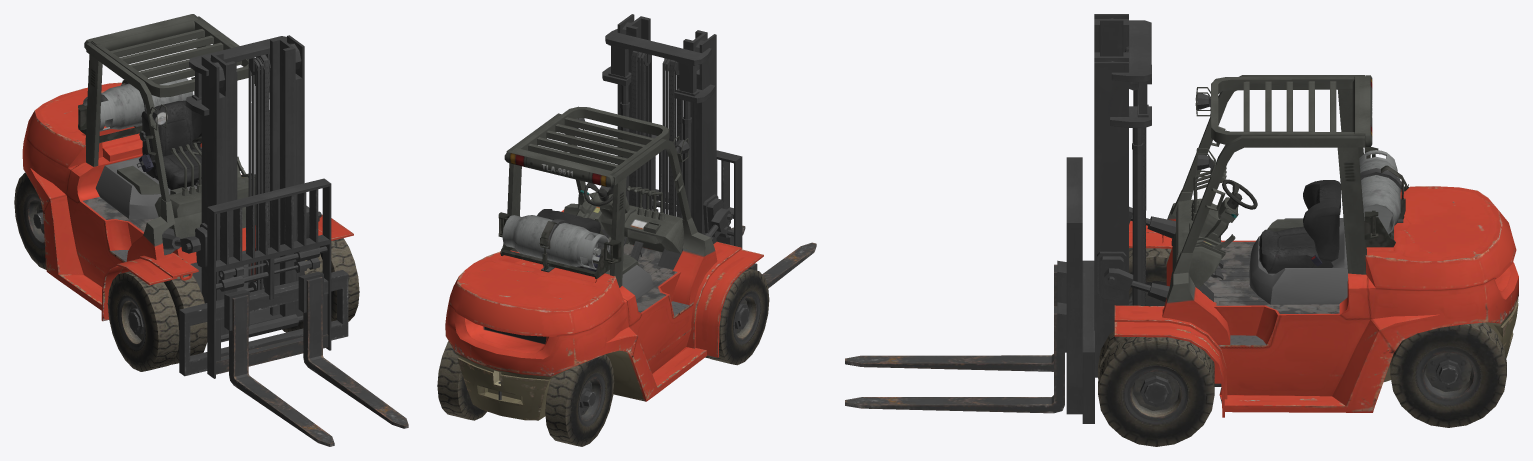
The model's file is ForkliftExampleAsset.fbx.
3 renders of one model, left to right at view 1: azimuth 30°, elevation 25°; view 2: azimuth 150°, elevation 25°; view 3: azimuth 270°, elevation 25°, orthographic. The views are drawn at different scales.
Visible parts, largest first — view 1: Forklift_FreeExampleAsset; view 2: Forklift_FreeExampleAsset; view 3: Forklift_FreeExampleAsset.
Boxes of the visible parts, <box> form: Forklift_FreeExampleAsset: <box>14,14,408,446</box>; Forklift_FreeExampleAsset: <box>437,14,816,446</box>; Forklift_FreeExampleAsset: <box>845,14,1518,446</box>.
Bounding box in the file's own units: 225 × 317 × 551.
